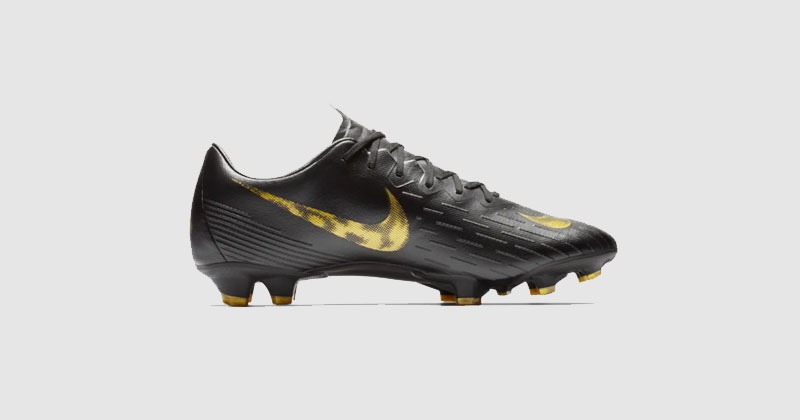football boots: (188, 107, 619, 309)
